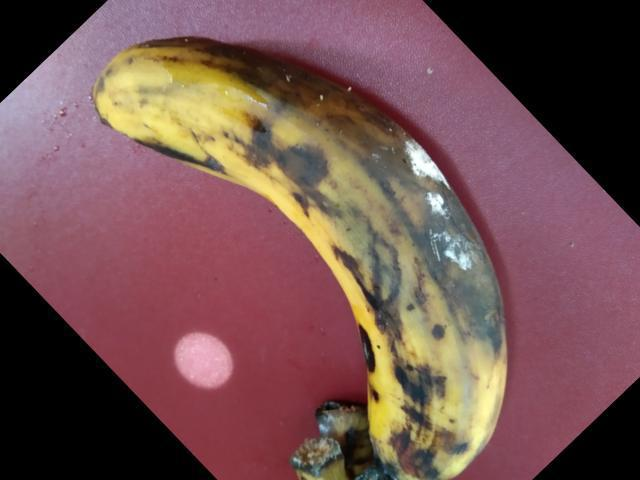rotten: (84, 25, 526, 479)
